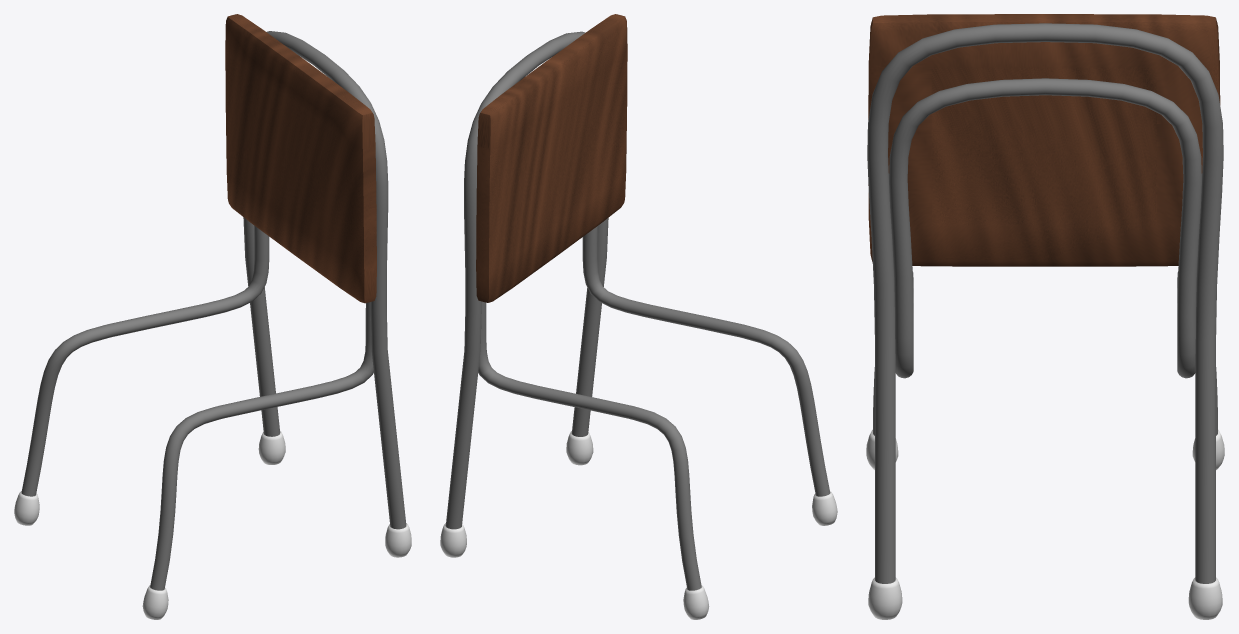
File: cadeira quebrada 2.fbx
3 renders of one model, left to right at view 1: azimuth 30°, elevation 25°; view 2: azimuth 150°, elevation 25°; view 3: azimuth 270°, elevation 25°, orthographic. The views are drawn at different scales.
Parts seen in each view (by area): view 1: cadeira_LOD0; view 2: cadeira_LOD0; view 3: cadeira_LOD0.
Part boxes in pixels (x1,y1,x2,y2): cadeira_LOD0: (14,14,411,619); cadeira_LOD0: (440,14,837,619); cadeira_LOD0: (866,14,1224,619).
Size of what is drawn, in the model's own units: 62.07 by 103 by 56.92.
3 materials, 1 textured.
